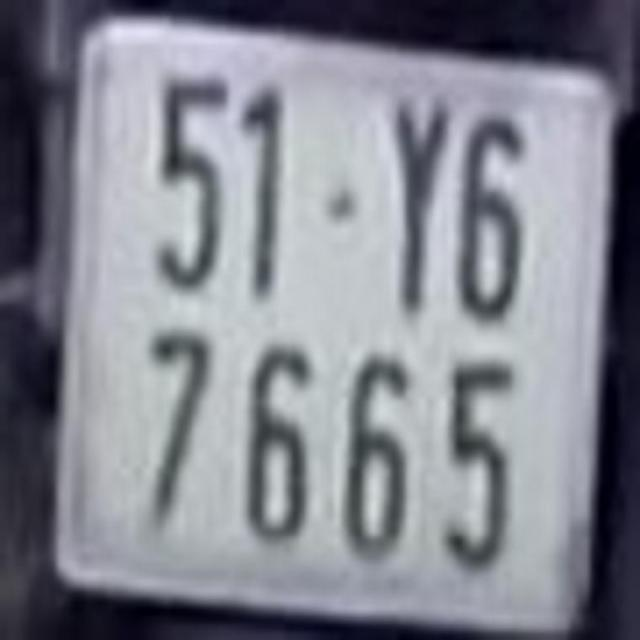1: (234, 68, 293, 302)
5: (434, 347, 518, 576), (160, 67, 230, 295)
6: (338, 340, 414, 566), (454, 94, 526, 323), (240, 330, 312, 548)
7: (143, 314, 221, 537)
Y: (390, 81, 454, 314)
